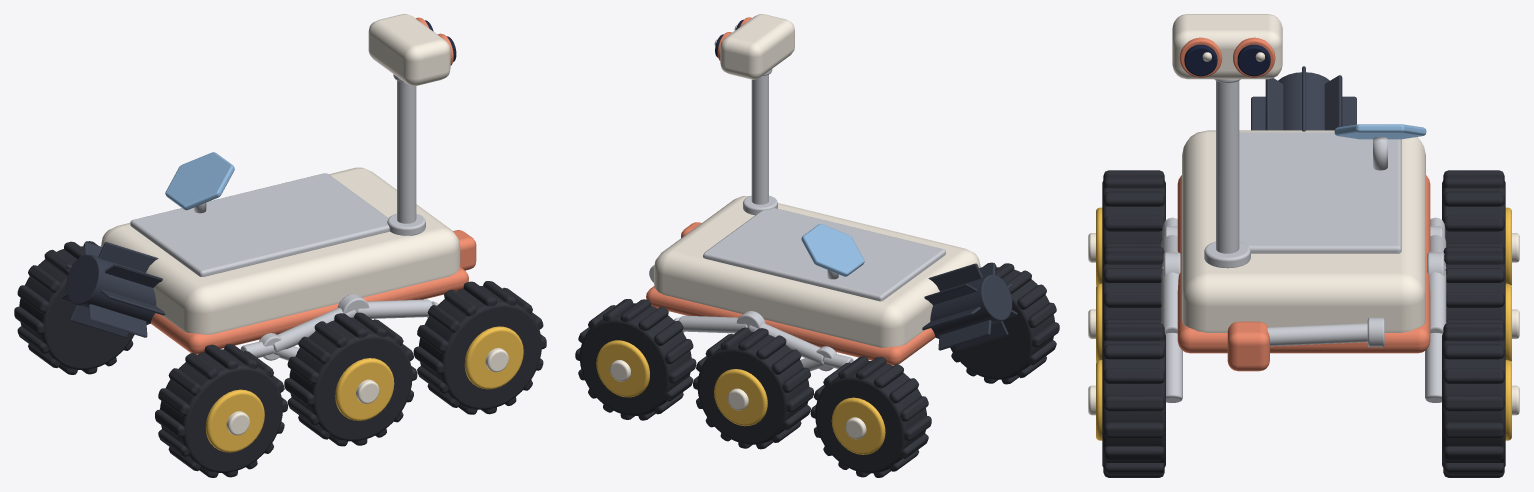
The model's file is rover.glb.
3 views of the same model, side by side, from view 1: azimuth 30°, elevation 25°; view 2: azimuth 150°, elevation 25°; view 3: azimuth 270°, elevation 25° (orthographic). The views are drawn at different scales.
Visible parts, largest first — view 1: Body, Body_Deck, Wheel_RR, Wheel_FR, Wheel_MR, Wheel_RL, Power, Head, Body_Band, Suspension_R, Mast, Antenna_Dish (+4 smaller); view 2: Body, Body_Deck, Wheel_FL, Wheel_RL, Wheel_ML, Wheel_RR, Power, Head, Body_Band, Suspension_L, Mast, Antenna_Dish (+3 smaller); view 3: Body, Body_Deck, Wheel_FL, Wheel_FR, Power, Mast, Wheel_RL, Wheel_RR, Wheel_ML, Wheel_MR, Body_Band, Head (+14 smaller).
Part boxes in pixels (x1,y1,x2,y2): Body: (101, 167, 460, 334); Body_Deck: (130, 173, 389, 276); Wheel_RR: (155, 344, 287, 477); Wheel_FR: (413, 281, 546, 414); Wheel_MR: (284, 312, 417, 446); Wheel_RL: (14, 241, 134, 374); Power: (60, 242, 165, 337); Head: (368, 14, 450, 85); Body_Band: (151, 267, 468, 354); Suspension_R: (240, 294, 438, 360); Mast: (387, 74, 425, 235); Antenna_Dish: (165, 152, 234, 210); Body: (654, 196, 980, 347); Body_Deck: (703, 208, 945, 301); Wheel_FL: (575, 299, 696, 420); Wheel_RL: (810, 356, 931, 477); Wheel_ML: (693, 327, 813, 449); Wheel_RR: (950, 262, 1059, 384); Power: (922, 263, 1017, 350); Head: (720, 14, 794, 79); Body_Band: (646, 286, 935, 365); Suspension_L: (674, 311, 853, 371); Mast: (743, 69, 777, 215); Antenna_Dish: (801, 224, 864, 276); Body: (1182, 130, 1425, 332); Body_Deck: (1239, 132, 1401, 253); Wheel_FL: (1442, 323, 1505, 477); Wheel_FR: (1102, 323, 1165, 477); Power: (1251, 66, 1356, 131); Mast: (1204, 79, 1250, 268); Wheel_RL: (1442, 170, 1505, 258); Wheel_RR: (1102, 170, 1165, 258); Wheel_ML: (1443, 246, 1505, 334); Wheel_MR: (1102, 246, 1164, 334); Body_Band: (1177, 175, 1430, 353); Head: (1172, 14, 1282, 79).
Bounding box in the file's own units: 2.59 × 2.23 × 2.03.
